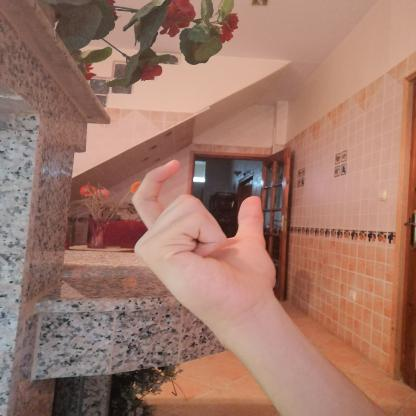NOON: (116, 150, 295, 325)
